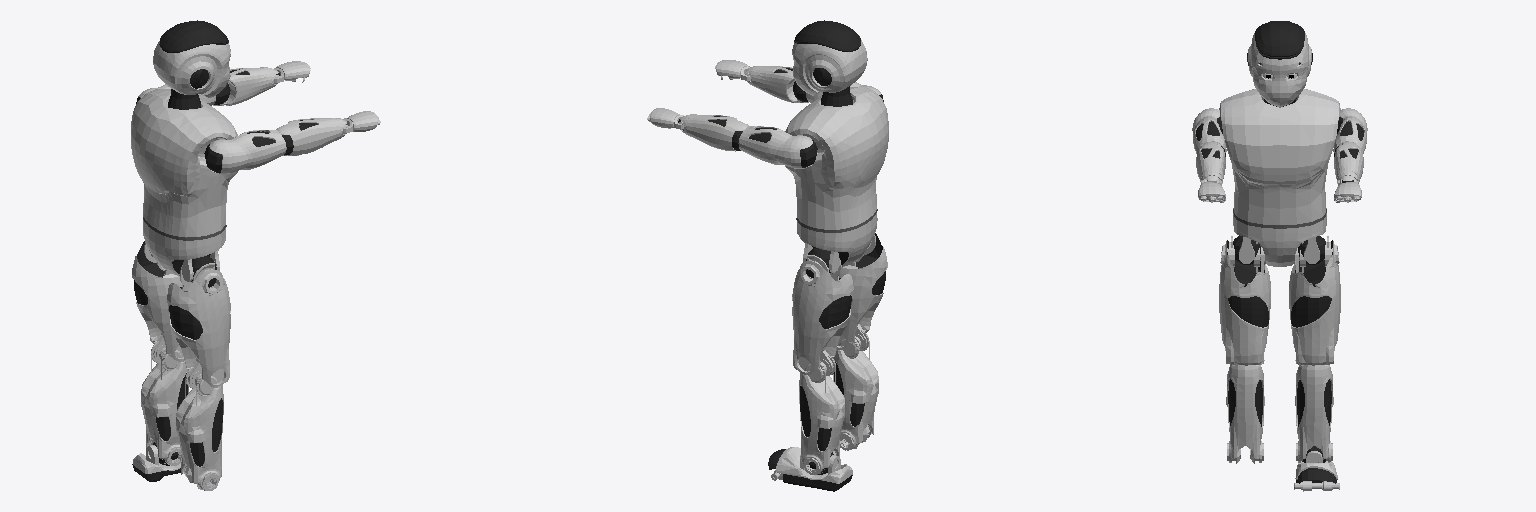
URDF robot description (romeoH37V1):
<?xml version="1.0" ?>
<!-- This file comes from Aldebaran romeo.urdf file with slight modifications:               -->
<!--             - rename joint_base by waist (joint base name in sot is already joint_base) -->
<!--             - waist joint goes from base_link to body (and not torso)                   -->
<!--             - inverse trunkYaw joint direction (now from body to torso)                 -->
<!-- Aldebaran file comes from                                                               --> 
<!-- https://github.com/ros-aldebaran/romeo_robot/blob/master/romeo_description/urdf/romeoV1_generated_urdf/romeo.urdf -->
<robot name="romeoH37V1" xmlns:xacro="http://www.ros.org/wiki/xacro">
  <joint name="NeckYaw" type="revolute">
    <parent link="torso"/>
    <child link="NeckYawLink"/>
    <origin rpy="0 0 0" xyz="0 0 0.0835"/>
    <axis xyz="0 0 1.0"/>
    <limit effort="3.662" lower="-1.5708" upper="1.5708" velocity="4.0"/>
  </joint>
  <link name="NeckYawLink">
    <inertial>
      <mass value="0.51016"/>
      <inertia ixx="0.00122159" ixy="-8.014e-08" ixz="1.145e-08" iyy="0.00124608" iyz="-1.84095e-06" izz="0.000187965"/>
      <origin rpy="0 0 0" xyz="0 0 -0.03074"/>
    </inertial>
  </link>
  <joint name="NeckPitch" type="revolute">
    <parent link="NeckYawLink"/>
    <child link="NeckPitchLink"/>
    <origin rpy="0 0 0" xyz="0 0 0"/>
    <axis xyz="0 1.0 0"/>
    <limit effort="2.978" lower="-0.349066" upper="0.698132" velocity="2.2"/>
  </joint>
  <link name="NeckPitchLink">
    <inertial>
      <mass value="0.23875"/>
      <inertia ixx="0.000866022" ixy="-1.57263e-06" ixz="6.13825e-05" iyy="0.000818287" iyz="9.69515e-06" izz="0.000238919"/>
      <origin rpy="0 0 0" xyz="-0.00472 0 0.04432"/>
    </inertial>
    <visual>
      <geometry>
        <mesh filename="package://meshes/visual/NeckPitch.dae" scale="1 1 1"/>
      </geometry>
    </visual>
    <collision>
      <geometry>
        <mesh filename="package://meshes/collision/NeckPitch.dae" scale="1 1 1"/>
      </geometry>
    </collision>
  </link>
  <joint name="HeadPitch" type="revolute">
    <parent link="NeckPitchLink"/>
    <child link="HeadPitchLink"/>
    <origin rpy="0 0 0" xyz="0 0 0.09511"/>
    <axis xyz="0 1.0 0"/>
    <limit effort="2.57" lower="-0.349066" upper="0.279253" velocity="1.9"/>
  </joint>
  <link name="HeadPitchLink">
    <inertial>
      <mass value="0.13981"/>
      <inertia ixx="3.89601e-05" ixy="-3.814e-08" ixz="-2.29622e-06" iyy="7.25465e-05" iyz="-6.46e-09" izz="5.3765e-05"/>
      <origin rpy="0 0 0" xyz="0.00137 0 -0.00641"/>
    </inertial>
  </link>
  <joint name="HeadRoll" type="revolute">
    <parent link="HeadPitchLink"/>
    <child link="HeadRollLink"/>
    <origin rpy="0 0 0" xyz="0 0 0"/>
    <axis xyz="1.0 0 0"/>
    <limit effort="0.9" lower="-0.349066" upper="0.349066" velocity="1.5"/>
  </joint>
  <link name="HeadRollLink">
    <inertial>
      <mass value="1.41282"/>
      <inertia ixx="0.0149087" ixy="-5.14209e-05" ixz="-0.000684893" iyy="0.0173189" iyz="-0.000191527" izz="0.00735475"/>
      <origin rpy="0 0 0" xyz="0.01617 0 0.00757"/>
    </inertial>
    <visual>
      <geometry>
        <mesh filename="package://meshes/visual/HeadRoll.dae" scale="1 1 1"/>
      </geometry>
    </visual>
    <collision>
      <geometry>
        <mesh filename="package://meshes/collision/HeadRoll.dae" scale="1 1 1"/>
      </geometry>
    </collision>
  </link>
  <joint name="LHipYaw" type="revolute">
    <parent link="body"/>
    <child link="LHipYawLink"/>
    <origin rpy="0 0 0" xyz="0 0.096 -0.20004"/>
    <axis xyz="0 0 1.0"/>
    <limit effort="9.2" lower="-0.261799" upper="0.261799" velocity="0.32"/>
  </joint>
  <link name="LHipYawLink">
    <inertial>
      <mass value="0.49477"/>
      <inertia ixx="0.00303668" ixy="0" ixz="0" iyy="0.00347998" iyz="0" izz="0.000622773"/>
      <origin rpy="0 0 0" xyz="-0.00871 -0.00022 0.06319"/>
    </inertial>
  </link>
  <joint name="LHipRoll" type="revolute">
    <parent link="LHipYawLink"/>
    <child link="LHipRollLink"/>
    <origin rpy="0 0 0" xyz="0 0 0"/>
    <axis xyz="1.0 0 0"/>
    <limit effort="46.6" lower="-0.261799" upper="0.523599" velocity="2.09"/>
  </joint>
  <link name="LHipRollLink">
    <inertial>
      <mass value="0.6607"/>
      <inertia ixx="0.00089862" ixy="0" ixz="0" iyy="0.000509559" iyz="0" izz="0.000935392"/>
      <origin rpy="0 0 0" xyz="0.00293 -0.00027 0.00011"/>
    </inertial>
  </link>
  <joint name="LHipPitch" type="revolute">
    <parent link="LHipRollLink"/>
    <child link="LHipPitchLink"/>
    <origin rpy="0 0 0" xyz="0 0 0"/>
    <axis xyz="0 1.0 0"/>
    <limit effort="46.6" lower="-1.71042" upper="0.401426" velocity="2.09"/>
  </joint>
  <link name="LHipPitchLink">
    <inertial>
      <mass value="4.33935"/>
      <inertia ixx="0.132895" ixy="0" ixz="0" iyy="0.133977" iyz="0" izz="0.0121687"/>
      <origin rpy="0 0 0" xyz="-0.00971 0.00135 -0.15083"/>
    </inertial>
    <visual>
      <geometry>
        <mesh filename="package://meshes/visual/LHipPitch.dae" scale="1 1 1"/>
      </geometry>
    </visual>
    <collision>
      <geometry>
        <mesh filename="package://meshes/collision/LHipPitch.dae" scale="1 1 1"/>
      </geometry>
    </collision>
  </link>
  <joint name="LKneePitch" type="revolute">
    <parent link="LHipPitchLink"/>
    <child link="LKneePitchLink"/>
    <origin rpy="0 0 0" xyz="0 0 -0.32"/>
    <axis xyz="0 1.0 0"/>
    <limit effort="38.17" lower="0" upper="2.00713" velocity="6.0"/>
  </joint>
  <link name="LKneePitchLink">
    <inertial>
      <mass value="2.61063"/>
      <inertia ixx="0.054913" ixy="0" ixz="0" iyy="0.0549663" iyz="0" izz="0.00398482"/>
      <origin rpy="0 0 0" xyz="-0.00532 -0.00075 -0.12258"/>
    </inertial>
    <visual>
      <geometry>
        <mesh filename="package://meshes/visual/LKneePitch.dae" scale="1 1 1"/>
      </geometry>
    </visual>
    <collision>
      <geometry>
        <mesh filename="package://meshes/collision/LKneePitch.dae" scale="1 1 1"/>
      </geometry>
    </collision>
  </link>
  <joint name="LAnklePitch" type="revolute">
    <parent link="LKneePitchLink"/>
    <child link="LAnklePitchLink"/>
    <origin rpy="0 0 0" xyz="0 0 -0.29"/>
    <axis xyz="0 1.0 0"/>
    <limit effort="25.76" lower="-0.523599" upper="0.785398" velocity="2.1"/>
  </joint>
  <link name="LAnklePitchLink">
    <inertial>
      <mass value="0.5008"/>
      <inertia ixx="0.000429952" ixy="0" ixz="0" iyy="0.000281451" iyz="0" izz="0.000527665"/>
      <origin rpy="0 0 0" xyz="0.00059 0.00051 0.00038"/>
    </inertial>
  </link>
  <joint name="LAnkleRoll" type="revolute">
    <parent link="LAnklePitchLink"/>
    <child link="l_ankle"/>
    <origin rpy="0 0 0" xyz="0 0 0"/>
    <axis xyz="1.0 0 0"/>
    <limit effort="25.76" lower="-0.349066" upper="0.349066" velocity="2.1"/>
  </joint>
  <link name="l_ankle">
    <inertial>
      <mass value="1.07155"/>
      <inertia ixx="0.00350696" ixy="0" ixz="0" iyy="0.0162129" iyz="0" izz="0.0147353"/>
      <origin rpy="0 0 0" xyz="0.07856 -0.00603 -0.04513"/>
    </inertial>
    <visual>
      <geometry>
        <mesh filename="package://meshes/visual/LAnkleRoll.dae" scale="1 1 1"/>
      </geometry>
    </visual>
    <collision>
      <geometry>
        <mesh filename="package://meshes/collision/LAnkleRoll.dae" scale="1 1 1"/>
      </geometry>
    </collision>
  </link>
  <joint name="l_sole_joint" type="fixed">
    <parent link="l_ankle"/>
    <child link="l_sole"/>
    <origin rpy="0 0 0" xyz="0 0 -0.0684"/>
  </joint>
  <link name="l_sole"/>
  <joint name="RHipYaw" type="revolute">
    <parent link="body"/>
    <child link="RHipYawLink"/>
    <origin rpy="0 0 0" xyz="0 -0.096 -0.20004"/>
    <axis xyz="0 0 1.0"/>
    <limit effort="9.2" lower="-0.261799" upper="0.261799" velocity="0.32"/>
  </joint>
  <link name="RHipYawLink">
    <inertial>
      <mass value="0.49477"/>
      <inertia ixx="0.00303668" ixy="0" ixz="0" iyy="0.00347998" iyz="0" izz="0.000622773"/>
      <origin rpy="0 0 0" xyz="-0.00871 0.00022 0.06319"/>
    </inertial>
  </link>
  <joint name="RHipRoll" type="revolute">
    <parent link="RHipYawLink"/>
    <child link="RHipRollLink"/>
    <origin rpy="0 0 0" xyz="0 0 0"/>
    <axis xyz="1.0 0 0"/>
    <limit effort="46.6" lower="-0.523599" upper="0.261799" velocity="2.09"/>
  </joint>
  <link name="RHipRollLink">
    <inertial>
      <mass value="0.6607"/>
      <inertia ixx="0.00089862" ixy="0" ixz="0" iyy="0.000509559" iyz="0" izz="0.000935392"/>
      <origin rpy="0 0 0" xyz="0.00293 0.00027 0.00011"/>
    </inertial>
  </link>
  <joint name="RHipPitch" type="revolute">
    <parent link="RHipRollLink"/>
    <child link="RHipPitchLink"/>
    <origin rpy="0 0 0" xyz="0 0 0"/>
    <axis xyz="0 1.0 0"/>
    <limit effort="46.6" lower="-1.71042" upper="0.401426" velocity="2.09"/>
  </joint>
  <link name="RHipPitchLink">
    <inertial>
      <mass value="4.33935"/>
      <inertia ixx="0.132895" ixy="0" ixz="0" iyy="0.133977" iyz="0" izz="0.0121687"/>
      <origin rpy="0 0 0" xyz="-0.00971 -0.00135 -0.15083"/>
    </inertial>
    <visual>
      <geometry>
        <mesh filename="package://meshes/visual/RHipPitch.dae" scale="1 1 1"/>
      </geometry>
    </visual>
    <collision>
      <geometry>
        <mesh filename="package://meshes/collision/RHipPitch.dae" scale="1 1 1"/>
      </geometry>
    </collision>
  </link>
  <joint name="RKneePitch" type="revolute">
    <parent link="RHipPitchLink"/>
    <child link="RKneePitchLink"/>
    <origin rpy="0 0 0" xyz="0 0 -0.32"/>
    <axis xyz="0 1.0 0"/>
    <limit effort="38.17" lower="0" upper="2.00713" velocity="6.0"/>
  </joint>
  <link name="RKneePitchLink">
    <inertial>
      <mass value="2.61063"/>
      <inertia ixx="0.054913" ixy="0" ixz="0" iyy="0.0549663" iyz="0" izz="0.00398482"/>
      <origin rpy="0 0 0" xyz="-0.00532 0.00075 -0.12258"/>
    </inertial>
    <visual>
      <geometry>
        <mesh filename="package://meshes/visual/RKneePitch.dae" scale="1 1 1"/>
      </geometry>
    </visual>
    <collision>
      <geometry>
        <mesh filename="package://meshes/collision/RKneePitch.dae" scale="1 1 1"/>
      </geometry>
    </collision>
  </link>
  <joint name="RAnklePitch" type="revolute">
    <parent link="RKneePitchLink"/>
    <child link="RAnklePitchLink"/>
    <origin rpy="0 0 0" xyz="0 0 -0.29"/>
    <axis xyz="0 1.0 0"/>
    <limit effort="25.76" lower="-0.523599" upper="0.785398" velocity="2.1"/>
  </joint>
  <link name="RAnklePitchLink">
    <inertial>
      <mass value="0.5008"/>
      <inertia ixx="0.000429952" ixy="0" ixz="0" iyy="0.000281451" iyz="0" izz="0.000527665"/>
      <origin rpy="0 0 0" xyz="0.00059 -0.00051 0.00038"/>
    </inertial>
  </link>
  <joint name="RAnkleRoll" type="revolute">
    <parent link="RAnklePitchLink"/>
    <child link="r_ankle"/>
    <origin rpy="0 0 0" xyz="0 0 0"/>
    <axis xyz="1.0 0 0"/>
    <limit effort="25.76" lower="-0.349066" upper="0.349066" velocity="2.1"/>
  </joint>
  <link name="r_ankle">
    <inertial>
      <mass value="1.07155"/>
      <inertia ixx="0.00350696" ixy="0" ixz="0" iyy="0.0162129" iyz="0" izz="0.0147353"/>
      <origin rpy="0 0 0" xyz="0.07856 0.00603 -0.04513"/>
    </inertial>
    <visual>
      <geometry>
        <mesh filename="package://meshes/visual/RAnkleRoll.dae" scale="1 1 1"/>
      </geometry>
    </visual>
    <collision>
      <geometry>
        <mesh filename="package://meshes/collision/RAnkleRoll.dae" scale="1 1 1"/>
      </geometry>
    </collision>
  </link>
  <joint name="r_sole_joint" type="fixed">
    <parent link="r_ankle"/>
    <child link="r_sole"/>
    <origin rpy="0 0 0" xyz="0 0 -0.0684"/>
  </joint>
  <link name="r_sole"/>
  <link name="torso">
    <inertial>
      <mass value="9.9216"/>
      <inertia ixx="0.129332" ixy="-0.000359651" ixz="0.00283888" iyy="0.126831" iyz="-0.00200843" izz="0.110627"/>
      <origin rpy="0 0 0" xyz="0.0023 0 -0.04854"/>
    </inertial>
    <visual>
      <geometry>
        <mesh filename="package://meshes/visual/Torso.dae" scale="1 1 1"/>
      </geometry>
    </visual>
    <collision>
      <geometry>
        <mesh filename="package://meshes/collision/Torso.dae" scale="1 1 1"/>
      </geometry>
    </collision>
  </link>
  <joint name="TrunkYaw" type="revolute">
    <parent link="body"/>
    <child link="torso"/>
    <origin rpy="0 0 0" xyz="0 0 0.2"/>
    <axis xyz="0 0 1.0"/>
    <limit effort="80.902" lower="-0.785398" upper="0.785398" velocity="1.5"/>
  </joint>
  <link name="body">
    <inertial>
      <mass value="4.16277"/>
      <inertia ixx="0.241879" ixy="-6.88963e-05" ixz="0.00282915" iyy="0.238168" iyz="0.000306252" izz="0.0214739"/>
      <origin rpy="0 0 0" xyz="0.00932 0 -0.2119"/>
    </inertial>
    <visual>
      <geometry>
        <mesh filename="package://meshes/visual/TrunkYaw.dae" scale="1 1 1"/>
      </geometry>
    </visual>
    <collision>
      <geometry>
        <mesh filename="package://meshes/collision/TrunkYaw.dae" scale="1 1 1"/>
      </geometry>
    </collision>
  </link>
  <joint name="LShoulderPitch" type="revolute">
    <parent link="torso"/>
    <child link="LShoulderPitchLink"/>
    <origin rpy="-0.158879 -0.0725189 -0.424682" xyz="0.005 0.19 0"/>
    <axis xyz="0 1.0 0"/>
    <limit effort="19.095" lower="-1.44478" upper="2.22041" velocity="2.2"/>
  </joint>
  <link name="LShoulderPitchLink">
    <inertial>
      <mass value="0.69402"/>
      <inertia ixx="0.00201004" ixy="2.37595e-06" ixz="-2.16793e-06" iyy="0.000570626" iyz="8.27832e-06" izz="0.00194068"/>
      <origin rpy="0 0 0" xyz="0.00149 -0.03299 0.00018"/>
    </inertial>
  </link>
  <joint name="LShoulderYaw" type="revolute">
    <parent link="LShoulderPitchLink"/>
    <child link="LShoulderYawLink"/>
    <origin rpy="0 0 0.430457" xyz="0 0 0"/>
    <axis xyz="0 0 1.0"/>
    <limit effort="9.031" lower="-0.430472" upper="1.14032" velocity="4.0"/>
  </joint>
  <link name="LShoulderYawLink">
    <inertial>
      <mass value="0.57151"/>
      <inertia ixx="0.000742818" ixy="-0.000617675" ixz="-7.28438e-05" iyy="0.00650202" iyz="-1.25157e-05" izz="0.00664434"/>
      <origin rpy="0 0 0" xyz="0.09367 0.01373 0.00103"/>
    </inertial>
    <visual>
      <geometry>
        <mesh filename="package://meshes/visual/LShoulderYaw.dae" scale="1 1 1"/>
      </geometry>
    </visual>
    <collision>
      <geometry>
        <mesh filename="package://meshes/collision/LShoulderYaw.dae" scale="1 1 1"/>
      </geometry>
    </collision>
  </link>
  <joint name="LElbowRoll" type="revolute">
    <parent link="LShoulderYawLink"/>
    <child link="LElbowRollLink"/>
    <origin rpy="0.17452 0 0" xyz="0.205 0 0"/>
    <axis xyz="1.0 0 0"/>
    <limit effort="7.404" lower="-2.0944" upper="2.0944" velocity="3.7"/>
  </joint>
  <link name="LElbowRollLink">
    <inertial>
      <mass value="0.39848"/>
      <inertia ixx="0.000179003" ixy="-2.25555e-06" ixz="1.376e-08" iyy="0.000804322" iyz="8.007e-08" izz="0.00077956"/>
      <origin rpy="0 0 0" xyz="-0.02231 -0.0024 0"/>
    </inertial>
  </link>
  <joint name="LElbowYaw" type="revolute">
    <parent link="LElbowRollLink"/>
    <child link="LElbowYawLink"/>
    <origin rpy="0 0 0" xyz="0 0 0"/>
    <axis xyz="0 0 1.0"/>
    <limit effort="6.02" lower="-1.5708" upper="0" velocity="4.0"/>
  </joint>
  <link name="LElbowYawLink">
    <inertial>
      <mass value="0.31265"/>
      <inertia ixx="0.000375096" ixy="-0.000225283" ixz="2.58073e-06" iyy="0.00209728" iyz="2.74613e-06" izz="0.00211065"/>
      <origin rpy="0 0 0" xyz="0.06738 0.01043 -0.00031"/>
    </inertial>
    <visual>
      <geometry>
        <mesh filename="package://meshes/visual/LElbowYaw.dae" scale="1 1 1"/>
      </geometry>
    </visual>
    <collision>
      <geometry>
        <mesh filename="package://meshes/collision/LElbowYaw.dae" scale="1 1 1"/>
      </geometry>
    </collision>
  </link>
  <joint name="LWristRoll" type="revolute">
    <parent link="LElbowYawLink"/>
    <child link="LWristRollLink"/>
    <origin rpy="0 0 0" xyz="0.1823 0 0"/>
    <axis xyz="1.0 0 0"/>
    <limit effort="2.177" lower="-3.66519" upper="0.523599" velocity="1.1"/>
  </joint>
  <link name="LWristRollLink">
    <inertial>
      <mass value="0.17563"/>
      <inertia ixx="6.72145e-05" ixy="-6.373e-07" ixz="-1.35809e-05" iyy="0.000851196" iyz="-2.443e-08" izz="0.000840348"/>
      <origin rpy="0 0 0" xyz="-0.0593 -5e-05 -0.00069"/>
    </inertial>
    <visual>
      <geometry>
        <mesh filename="package://meshes/visual/LWristRoll.dae" scale="1 1 1"/>
      </geometry>
    </visual>
    <collision>
      <geometry>
        <mesh filename="package://meshes/collision/LWristRoll.dae" scale="1 1 1"/>
      </geometry>
    </collision>
  </link>
  <joint name="LWristYaw" type="revolute">
    <parent link="LWristRollLink"/>
    <child link="LWristYawLink"/>
    <origin rpy="0 0 0" xyz="0 0 0"/>
    <axis xyz="0 0 1.0"/>
    <limit effort="0.862" lower="-0.436332" upper="0.436332" velocity="2.26"/>
  </joint>
  <link name="LWristYawLink">
    <inertial>
      <mass value="0.07595"/>
      <inertia ixx="1.45402e-05" ixy="-4.157e-08" ixz="7.674e-08" iyy="3.91907e-05" iyz="3.08e-09" izz="3.81787e-05"/>
      <origin rpy="0 0 0" xyz="-0.00746 -0.00016 -0.00022"/>
    </inertial>
    <visual>
      <geometry>
        <mesh filename="package://meshes/visual/LWristYaw.dae" scale="1 1 1"/>
      </geometry>
    </visual>
    <collision>
      <geometry>
        <mesh filename="package://meshes/collision/LWristYaw.dae" scale="1 1 1"/>
      </geometry>
    </collision>
  </link>
  <joint name="LWristPitch" type="revolute">
    <parent link="LWristYawLink"/>
    <child link="l_wrist"/>
    <origin rpy="0 0 0" xyz="0 0 0"/>
    <axis xyz="0 1.0 0"/>
    <limit effort="0.6" lower="-0.977384" upper="0.977384" velocity="3.75"/>
  </joint>
  <link name="l_wrist">
    <inertial>
      <mass value="0.16569"/>
      <inertia ixx="0.000112529" ixy="4.72583e-05" ixz="1.70404e-05" iyy="0.00107982" iyz="-1.54761e-05" izz="0.00115367"/>
      <origin rpy="0 0 0" xyz="0.06987 -0.00381 -0.00165"/>
    </inertial>
    <visual>
      <geometry>
        <mesh filename="package://meshes/visual/LWristPitch.dae" scale="1 1 1"/>
      </geometry>
    </visual>
    <collision>
      <geometry>
        <mesh filename="package://meshes/collision/LWristPitch.dae" scale="1 1 1"/>
      </geometry>
    </collision>
  </link>
  <joint name="RShoulderPitch" type="revolute">
    <parent link="torso"/>
    <child link="RShoulderPitchLink"/>
    <origin rpy="0.158879 -0.0725189 0.424682" xyz="0.005 -0.19 0"/>
    <axis xyz="0 1.0 0"/>
    <limit effort="19.095" lower="-1.44478" upper="2.22041" velocity="2.2"/>
  </joint>
  <link name="RShoulderPitchLink">
    <inertial>
      <mass value="0.69402"/>
      <inertia ixx="0.00201004" ixy="-2.37595e-06" ixz="2.16793e-06" iyy="0.000570626" iyz="8.27832e-06" izz="0.00194068"/>
      <origin rpy="0 0 0" xyz="0.00149 0.03299 0.00018"/>
    </inertial>
  </link>
  <joint name="RShoulderYaw" type="revolute">
    <parent link="RShoulderPitchLink"/>
    <child link="RShoulderYawLink"/>
    <origin rpy="0 0 -0.430457" xyz="0 0 0"/>
    <axis xyz="0 0 1.0"/>
    <limit effort="9.031" lower="-1.14032" upper="0.430472" velocity="4.0"/>
  </joint>
  <link name="RShoulderYawLink">
    <inertial>
      <mass value="0.57151"/>
      <inertia ixx="0.000742356" ixy="0.000617202" ixz="5.98521e-06" iyy="0.00649989" iyz="-1.07417e-06" izz="0.000664209"/>
      <origin rpy="0 0 0" xyz="0.09367 -0.01373 0.00103"/>
    </inertial>
    <visual>
      <geometry>
        <mesh filename="package://meshes/visual/RShoulderYaw.dae" scale="1 1 1"/>
      </geometry>
    </visual>
    <collision>
      <geometry>
        <mesh filename="package://meshes/collision/RShoulderYaw.dae" scale="1 1 1"/>
      </geometry>
    </collision>
  </link>
  <joint name="RElbowRoll" type="revolute">
    <parent link="RShoulderYawLink"/>
    <child link="RElbowRollLink"/>
    <origin rpy="-0.17452 0 0" xyz="0.205 0 0"/>
    <axis xyz="1.0 0 0"/>
    <limit effort="7.404" lower="-2.0944" upper="2.0944" velocity="3.7"/>
  </joint>
  <link name="RElbowRollLink">
    <inertial>
      <mass value="0.39848"/>
      <inertia ixx="0.000179003" ixy="-2.25555e-06" ixz="1.376e-08" iyy="0.000804322" iyz="8.007e-08" izz="0.00077956"/>
      <origin rpy="0 0 0" xyz="-0.02231 0.0024 0"/>
    </inertial>
  </link>
  <joint name="RElbowYaw" type="revolute">
    <parent link="RElbowRollLink"/>
    <child link="RElbowYawLink"/>
    <origin rpy="0 0 0" xyz="0 0 0"/>
    <axis xyz="0 0 1.0"/>
    <limit effort="6.02" lower="0" upper="1.5708" velocity="4.0"/>
  </joint>
  <link name="RElbowYawLink">
    <inertial>
      <mass value="0.31265"/>
      <inertia ixx="0.000366728" ixy="0.000185631" ixz="-5.37905e-07" iyy="0.00211104" iyz="3.1932e-07" izz="0.000211493"/>
      <origin rpy="0 0 0" xyz="0.06738 -0.01043 -0.00031"/>
    </inertial>
    <visual>
      <geometry>
        <mesh filename="package://meshes/visual/RElbowYaw.dae" scale="1 1 1"/>
      </geometry>
    </visual>
    <collision>
      <geometry>
        <mesh filename="package://meshes/collision/RElbowYaw.dae" scale="1 1 1"/>
      </geometry>
    </collision>
  </link>
  <joint name="RWristRoll" type="revolute">
    <parent link="RElbowYawLink"/>
    <child link="RWristRollLink"/>
    <origin rpy="0 0 0" xyz="0.1823 0 0"/>
    <axis xyz="1.0 0 0"/>
    <limit effort="2.177" lower="-0.523599" upper="3.66519" velocity="1.1"/>
  </joint>
  <link name="RWristRollLink">
    <inertial>
      <mass value="0.17563"/>
      <inertia ixx="6.72145e-05" ixy="-6.373e-07" ixz="-1.35809e-05" iyy="0.000851196" iyz="-2.443e-08" izz="0.000840348"/>
      <origin rpy="0 0 0" xyz="-0.0593 5e-05 -0.00069"/>
    </inertial>
    <visual>
      <geometry>
        <mesh filename="package://meshes/visual/RWristRoll.dae" scale="1 1 1"/>
      </geometry>
    </visual>
    <collision>
      <geometry>
        <mesh filename="package://meshes/collision/RWristRoll.dae" scale="1 1 1"/>
      </geometry>
    </collision>
  </link>
  <joint name="RWristYaw" type="revolute">
    <parent link="RWristRollLink"/>
    <child link="RWristYawLink"/>
    <origin rpy="0 0 0" xyz="0 0 0"/>
    <axis xyz="0 0 1.0"/>
    <limit effort="0.862" lower="-0.436332" upper="0.436332" velocity="2.26"/>
  </joint>
  <link name="RWristYawLink">
    <inertial>
      <mass value="0.07595"/>
      <inertia ixx="1.45402e-05" ixy="-4.157e-08" ixz="7.674e-08" iyy="3.91907e-05" iyz="3.08e-09" izz="3.81787e-05"/>
      <origin rpy="0 0 0" xyz="-0.00746 0.00016 -0.00022"/>
    </inertial>
    <visual>
      <geometry>
        <mesh filename="package://meshes/visual/RWristYaw.dae" scale="1 1 1"/>
      </geometry>
    </visual>
    <collision>
      <geometry>
        <mesh filename="package://meshes/collision/RWristYaw.dae" scale="1 1 1"/>
      </geometry>
    </collision>
  </link>
  <joint name="RWristPitch" type="revolute">
    <parent link="RWristYawLink"/>
    <child link="r_wrist"/>
    <origin rpy="0 0 0" xyz="0 0 0"/>
    <axis xyz="0 1.0 0"/>
    <limit effort="0.6" lower="-0.977384" upper="0.977384" velocity="3.75"/>
  </joint>
  <link name="r_wrist">
    <inertial>
      <mass value="0.16569"/>
      <inertia ixx="0.000112529" ixy="0" ixz="0" iyy="0.00107982" iyz="0" izz="0.00115367"/>
      <origin rpy="0 0 0" xyz="0.06987 0.00381 -0.00165"/>
    </inertial>
    <visual>
      <geometry>
        <mesh filename="package://meshes/visual/RWristPitch.dae" scale="1 1 1"/>
      </geometry>
    </visual>
    <collision>
      <geometry>
        <mesh filename="package://meshes/collision/RWristPitch.dae" scale="1 1 1"/>
      </geometry>
    </collision>
  </link>
</robot>

--- Render facts (derived) ---
Views: 3 orthographic renders of the robot side by side, from view 1: azimuth 30°, elevation 25°; view 2: azimuth 150°, elevation 25°; view 3: azimuth 270°, elevation 25°.
Robot: romeoH37V1 — 34 links, 33 joints (31 revolute, 2 fixed); root link body; default pose: every joint at zero.
Visible links, largest first — view 1: torso, RHipPitchLink, HeadRollLink, RKneePitchLink, LKneePitchLink, LHipPitchLink, body, RShoulderYawLink, RElbowYawLink, LElbowYawLink, l_ankle, r_wrist (+1 smaller); view 2: torso, LHipPitchLink, HeadRollLink, LKneePitchLink, RKneePitchLink, RHipPitchLink, body, LShoulderYawLink, l_ankle, LElbowYawLink, RElbowYawLink, l_wrist (+1 smaller); view 3: torso, RHipPitchLink, LHipPitchLink, HeadRollLink, body, RKneePitchLink, LKneePitchLink, l_ankle, LShoulderYawLink, RShoulderYawLink, LElbowYawLink, RElbowYawLink (+1 smaller).
Boxes of the visible links, x1,y1,x2,y2 form: torso: [131, 89, 237, 236]; RHipPitchLink: [167, 263, 230, 394]; HeadRollLink: [153, 20, 230, 97]; RKneePitchLink: [176, 367, 223, 490]; LKneePitchLink: [141, 341, 188, 465]; LHipPitchLink: [132, 241, 184, 368]; body: [143, 217, 226, 281]; RShoulderYawLink: [204, 130, 286, 173]; RElbowYawLink: [276, 118, 340, 155]; LElbowYawLink: [213, 67, 271, 105]; l_ankle: [132, 442, 180, 481]; r_wrist: [342, 111, 380, 133]; torso: [785, 87, 888, 229]; LHipPitchLink: [792, 255, 853, 382]; HeadRollLink: [792, 20, 867, 95]; LKneePitchLink: [799, 355, 844, 474]; RKneePitchLink: [833, 330, 878, 450]; RHipPitchLink: [837, 233, 887, 356]; body: [796, 209, 877, 272]; LShoulderYawLink: [738, 126, 817, 168]; l_ankle: [768, 447, 852, 491]; LElbowYawLink: [686, 114, 748, 151]; RElbowYawLink: [752, 66, 808, 102]; l_wrist: [647, 108, 683, 129]; torso: [1219, 89, 1340, 224]; RHipPitchLink: [1219, 236, 1270, 365]; LHipPitchLink: [1289, 236, 1340, 365]; HeadRollLink: [1247, 21, 1312, 106]; body: [1233, 209, 1326, 266]; RKneePitchLink: [1226, 365, 1264, 463]; LKneePitchLink: [1295, 365, 1333, 462]; l_ankle: [1294, 446, 1339, 491]; LShoulderYawLink: [1333, 108, 1367, 153]; RShoulderYawLink: [1192, 108, 1226, 153]; LElbowYawLink: [1334, 141, 1363, 181]; RElbowYawLink: [1196, 141, 1225, 181].
Bounding box of the posed robot: 0.642 × 0.4898 × 1.4 m (x, y, z).
Meshes: 20 distinct files referenced, 18 mesh visuals loaded (18 Collada DAE); not drawn: 2 (reference not matched to a file when rendering).
